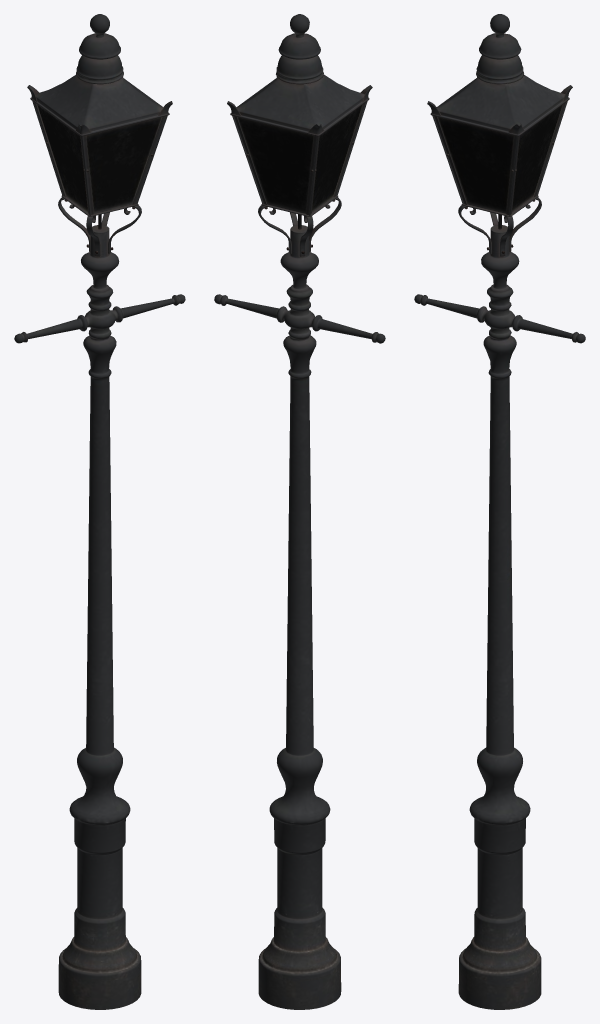
File: ph2_street_lamp_01.glb
3 renders of one model, left to right at view 1: azimuth 30°, elevation 25°; view 2: azimuth 150°, elevation 25°; view 3: azimuth 330°, elevation 25°, orthographic.
Size of the model in its own units: 0.7031 by 3.87 by 0.3865.
2 materials, 2 textured.
